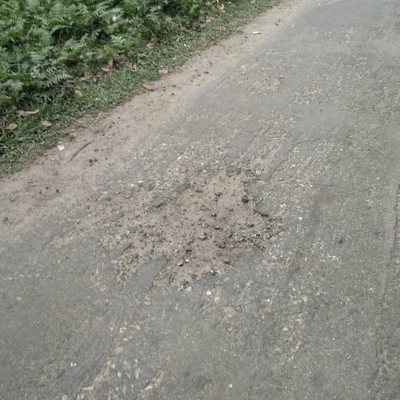pothole: (137, 165, 277, 282)
